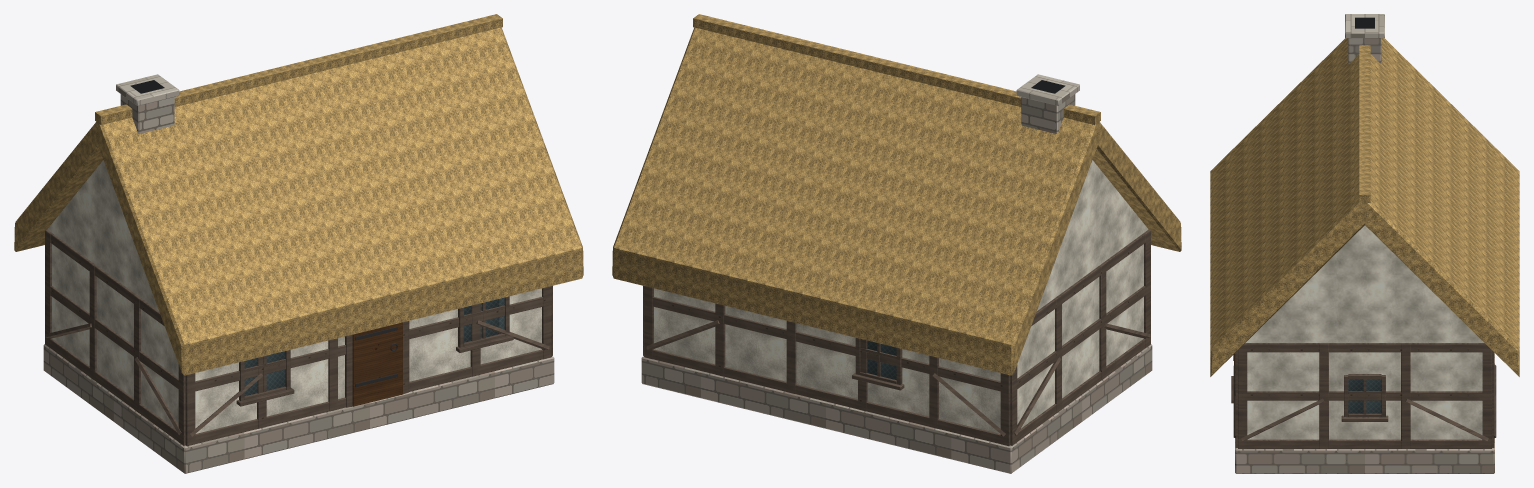
The model's file is thatched-cottage.glb.
3 renders of one model, left to right at view 1: azimuth 30°, elevation 25°; view 2: azimuth 150°, elevation 25°; view 3: azimuth 270°, elevation 25°, orthographic. The views are drawn at different scales.
Parts seen in each view (by area): view 1: Thatched_Cottage; view 2: Thatched_Cottage; view 3: Thatched_Cottage.
Part boxes in pixels (box(x1,y1,x2,y2)): Thatched_Cottage: box(14, 14, 583, 473); Thatched_Cottage: box(612, 14, 1181, 473); Thatched_Cottage: box(1210, 14, 1519, 473).
Size of the model in its own units: 7.7 by 6 by 5.6.
9 materials, 7 textured.
